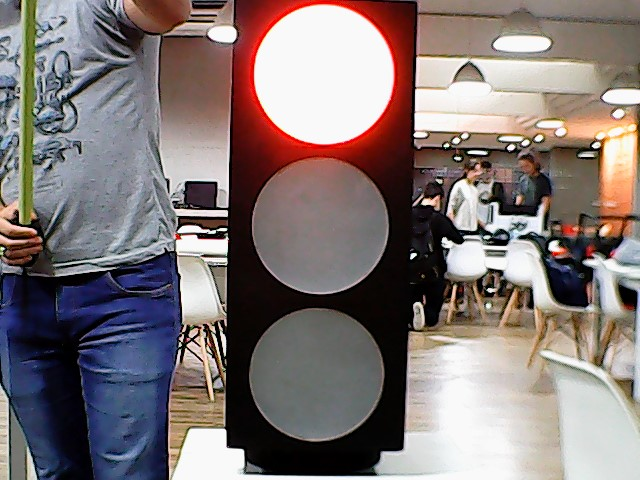vermelho: (223, 1, 423, 475)
